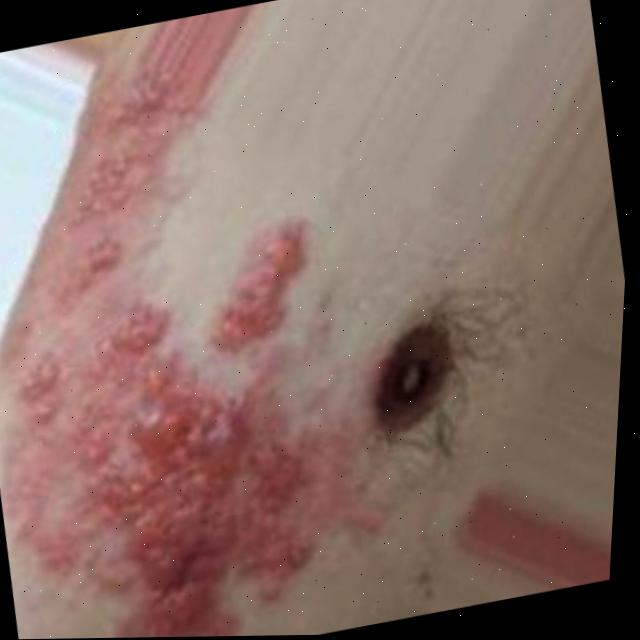Shingles: (0, 58, 371, 640)
